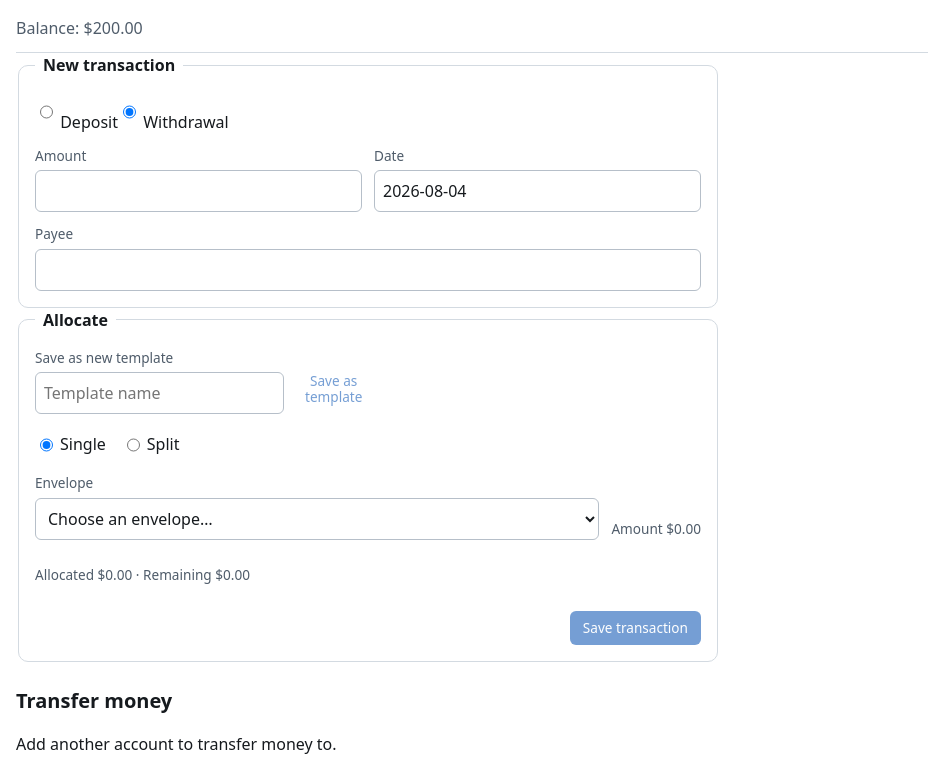
Scenario: AccountRegister (add transaction → allocate) › a withdrawal allocated to one envelope appears fully allocated and updates the balance
Type "48.20" into the field named "Transaction amount" at (198, 191), box [35,170,362,212]
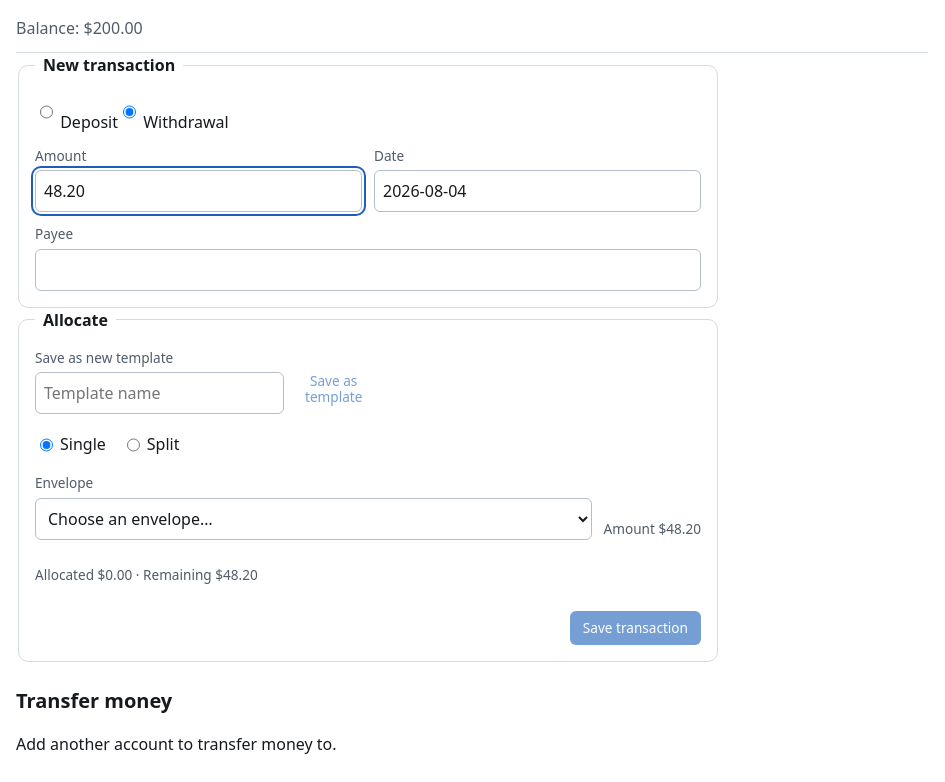
Select "Gas" in the dropdown labelled "Envelope" at (313, 519), box [35,498,592,540]
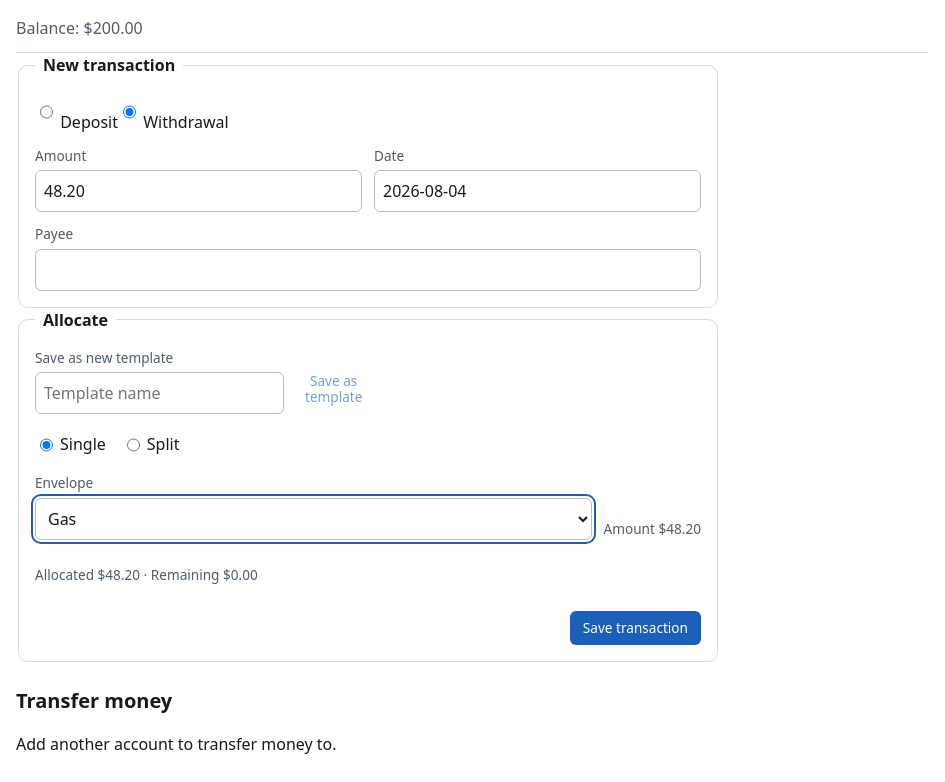
Click the button "Save transaction" at (635, 628), box [570,611,701,645]
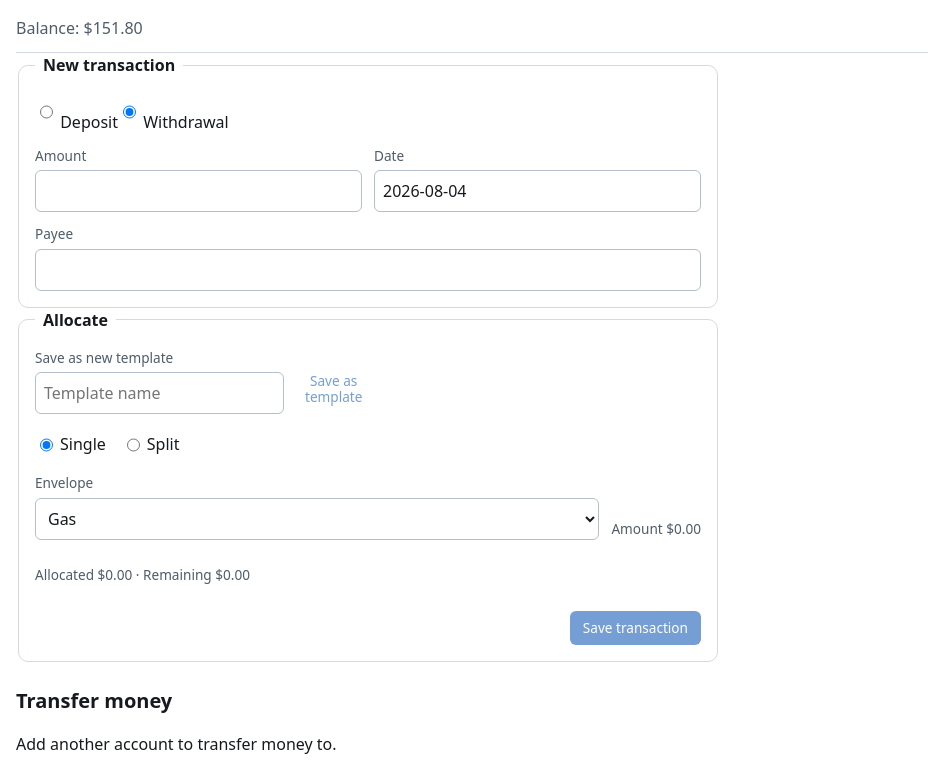
Expected: the text "Balance: $151.80" is shown, [16,16,143,40]
